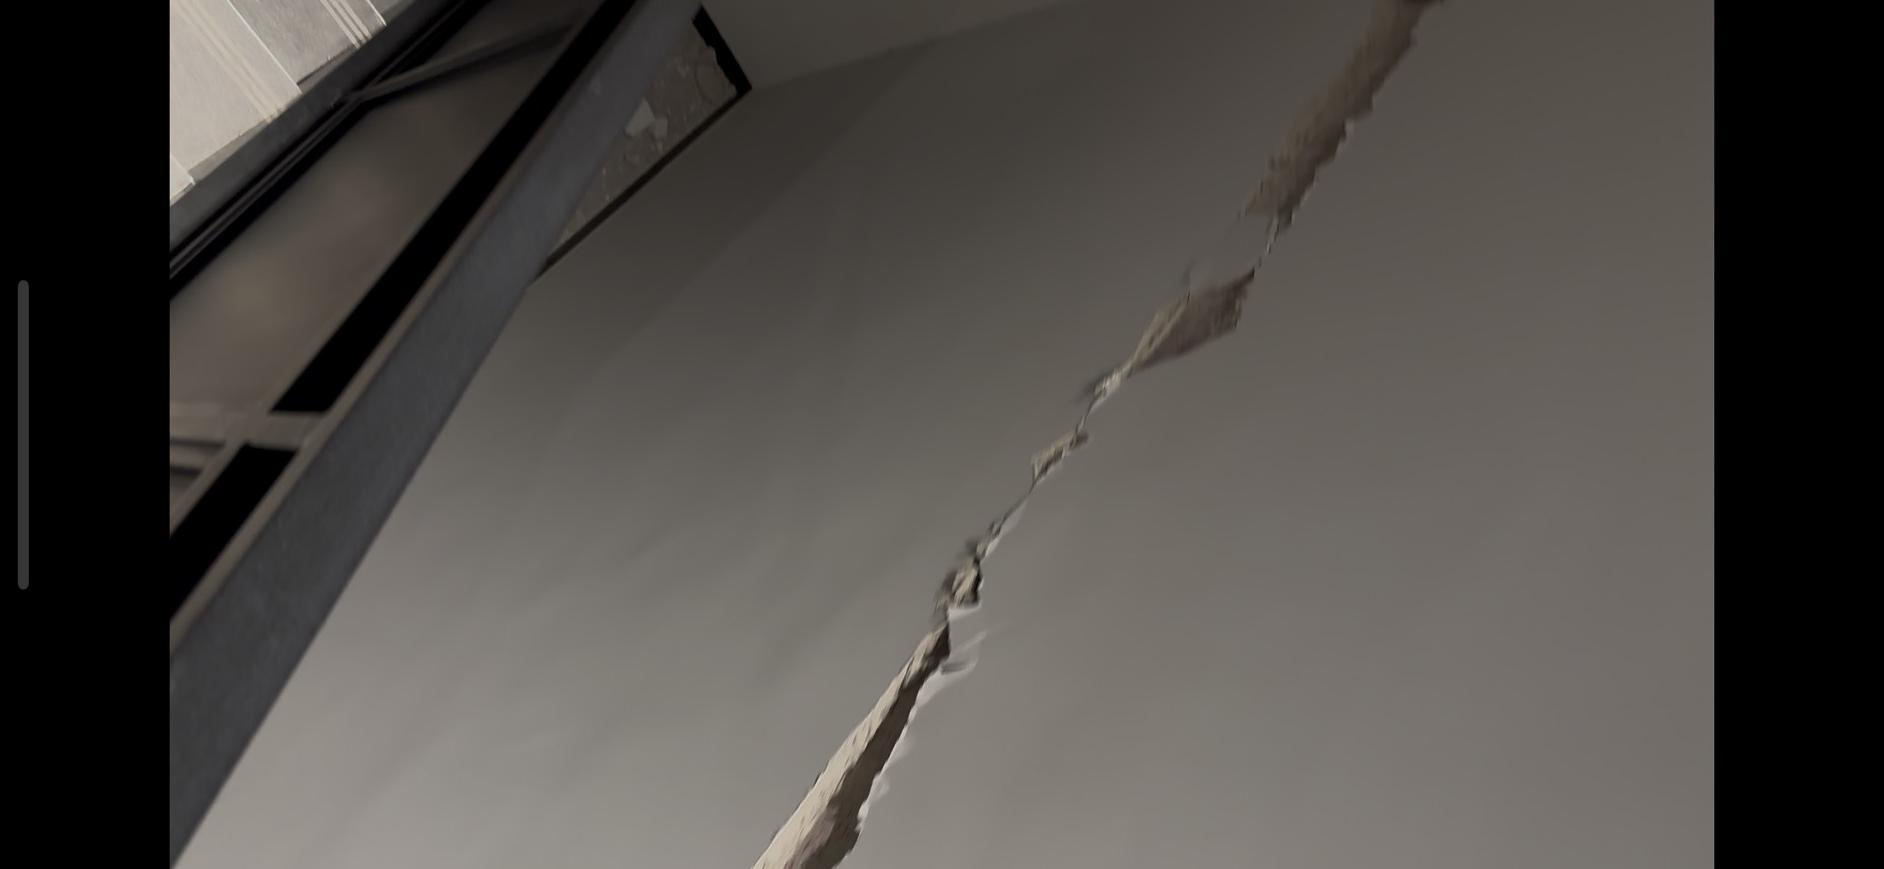Medium: (732, 329, 1193, 858)
